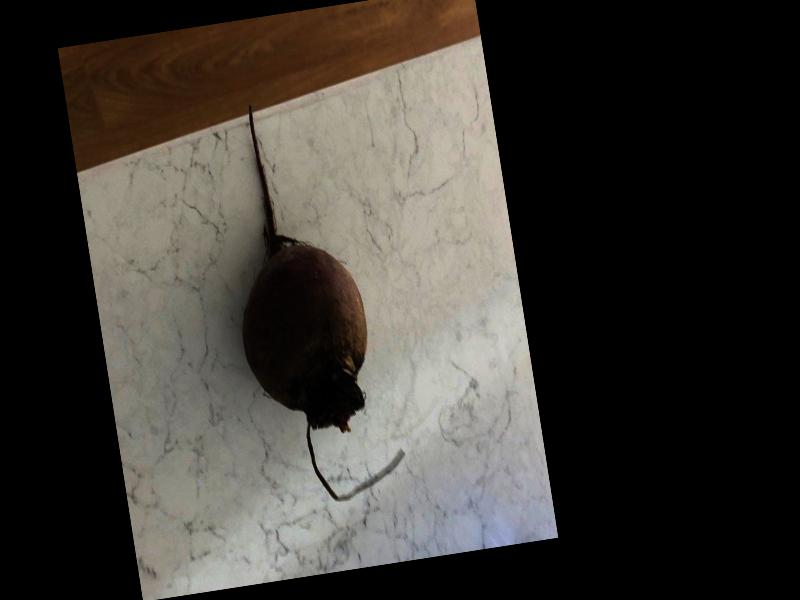Beet: (207, 89, 408, 510)
